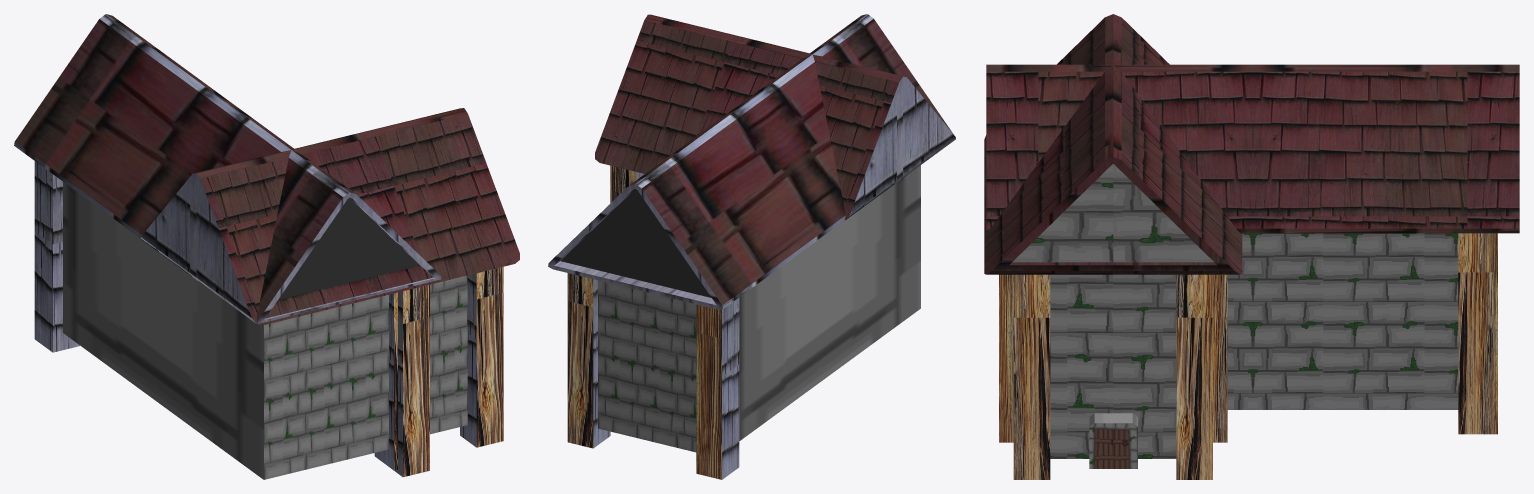
The model's file is bigger townhall.fbx.
3 renders of one model, left to right at view 1: azimuth 30°, elevation 25°; view 2: azimuth 150°, elevation 25°; view 3: azimuth 270°, elevation 25°, orthographic. The views are drawn at different scales.
Parts seen in each view (by area): view 1: Cube.002; view 2: Cube.002; view 3: Cube.002.
Part boxes in pixels (x1,y1,x2,y2): Cube.002: [14, 14, 519, 479]; Cube.002: [548, 14, 955, 479]; Cube.002: [984, 14, 1519, 479].
Bounding box in the file's own units: 1871 × 1981 × 2893.
